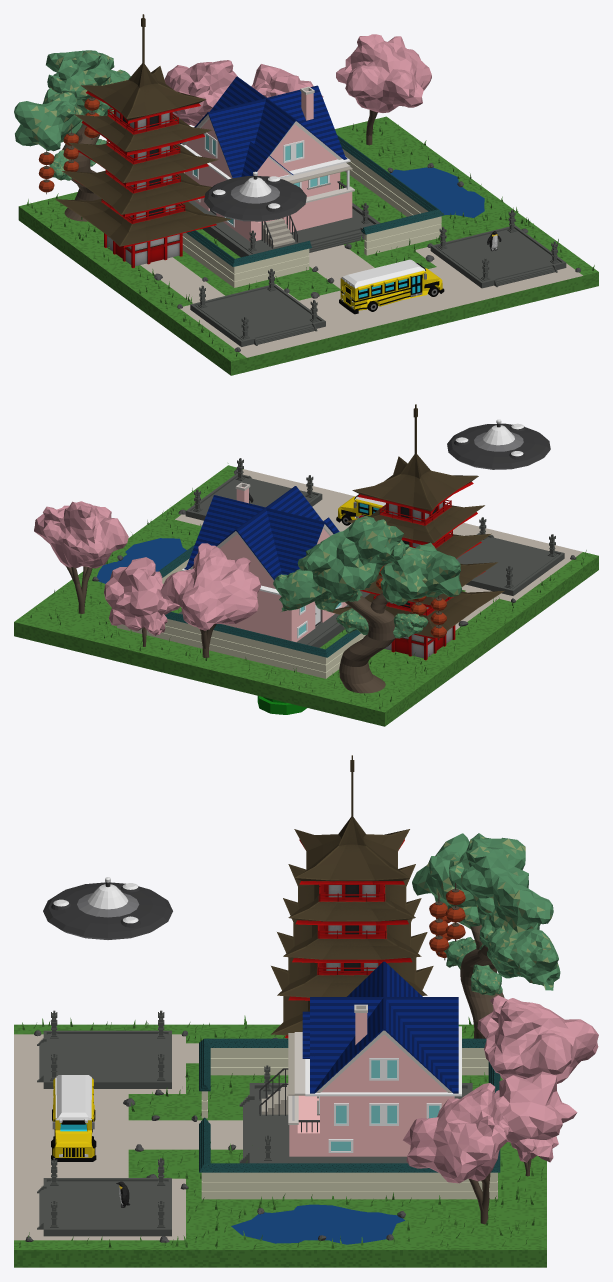
The picture shows the model from 3 angles, top to bottom: view 1: azimuth 30°, elevation 25°; view 2: azimuth 150°, elevation 25°; view 3: azimuth 270°, elevation 25°; orthographic projection. The views are drawn at different scales.
Visible parts, largest first — view 1: Cube.005, Cube.313, OBJRANDOM_UFO, VEHICLES_SCHOOL_BUS; view 2: Cube.005, Cube.313, OBJRANDOM_UFO, VEHICLES_SCHOOL_BUS, UNDERGROUND_PIPES; view 3: Cube.005, Cube.313, OBJRANDOM_UFO, VEHICLES_SCHOOL_BUS.
Boxes of the visible parts, x1,y1,x2,y2 form: Cube.005: (14, 14, 598, 375); Cube.313: (179, 76, 354, 248); OBJRANDOM_UFO: (204, 171, 306, 221); VEHICLES_SCHOOL_BUS: (339, 259, 444, 314); Cube.005: (14, 404, 598, 726); Cube.313: (181, 482, 347, 642); OBJRANDOM_UFO: (447, 419, 550, 469); VEHICLES_SCHOOL_BUS: (336, 494, 385, 525); UNDERGROUND_PIPES: (257, 696, 306, 714); Cube.005: (14, 755, 598, 1267); Cube.313: (259, 961, 461, 1156); OBJRANDOM_UFO: (43, 877, 172, 939); VEHICLES_SCHOOL_BUS: (51, 1075, 96, 1161).
Size of the model in its own units: 4528 by 3273 by 4389.
42 materials, 5 textured.
